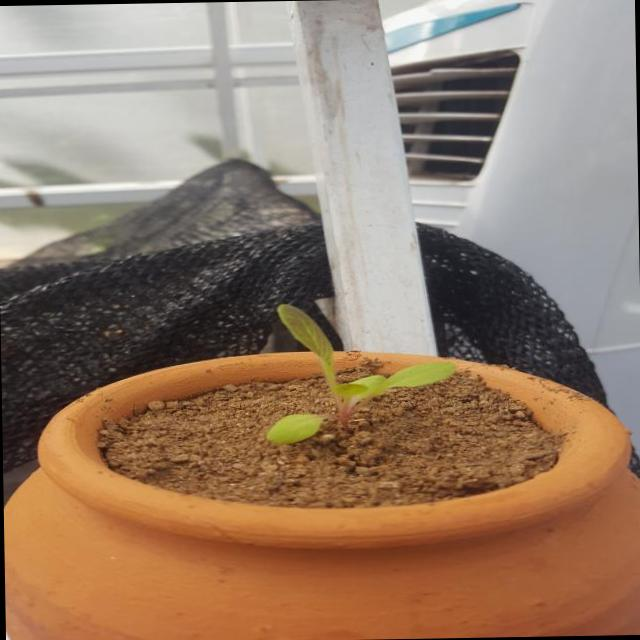Lettuce-Not-Ready-to-Harvest: (266, 304, 455, 445)
